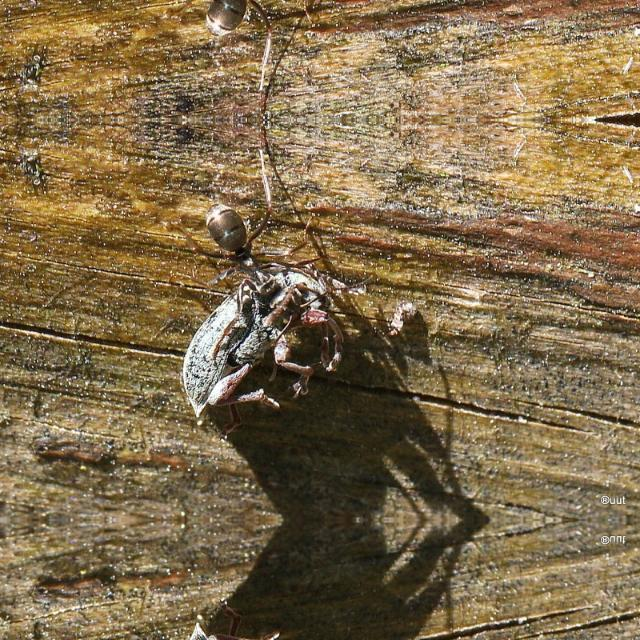Formica: (186, 183, 284, 305), (186, 0, 284, 56)
